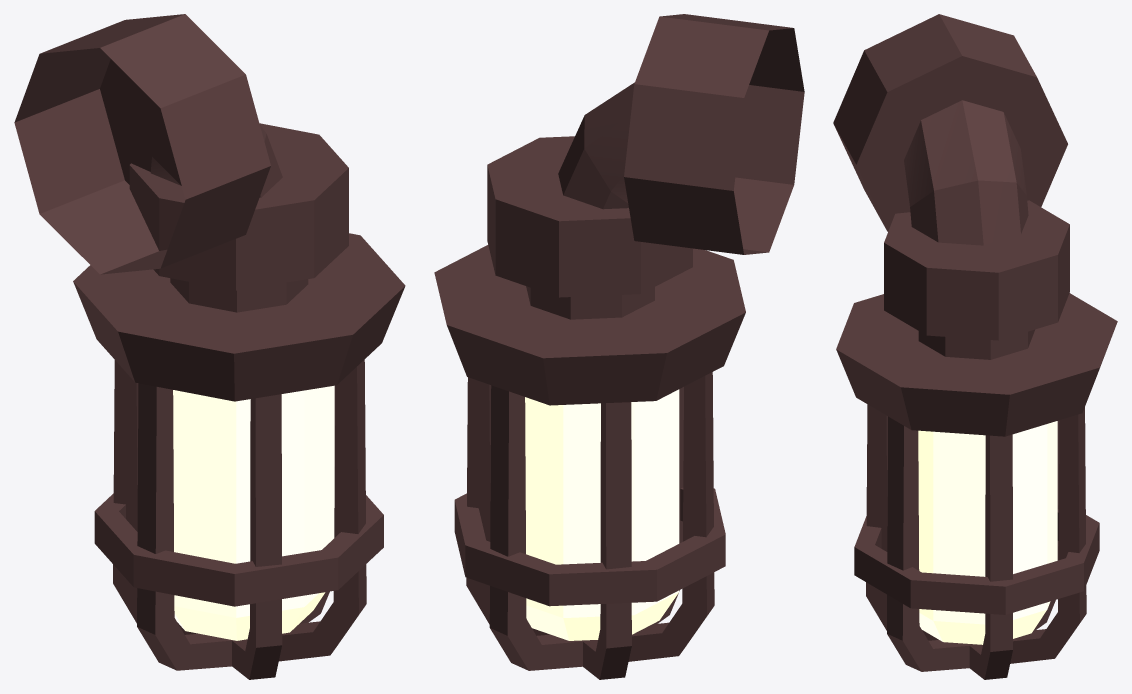
The model's file is WallLamp (1).fbx.
3 views of the same model, side by side, from view 1: azimuth 30°, elevation 25°; view 2: azimuth 150°, elevation 25°; view 3: azimuth 270°, elevation 25° (orthographic). The views are drawn at different scales.
Visible parts, largest first — view 1: WallLamp__1_; view 2: WallLamp__1_; view 3: WallLamp__1_.
Boxes of the visible parts, x1,y1,x2,y2 form: WallLamp__1_: (14,14,405,679); WallLamp__1_: (434,14,804,679); WallLamp__1_: (833,14,1117,679).
Size of the model in its own units: 110 by 216 by 96.01.
